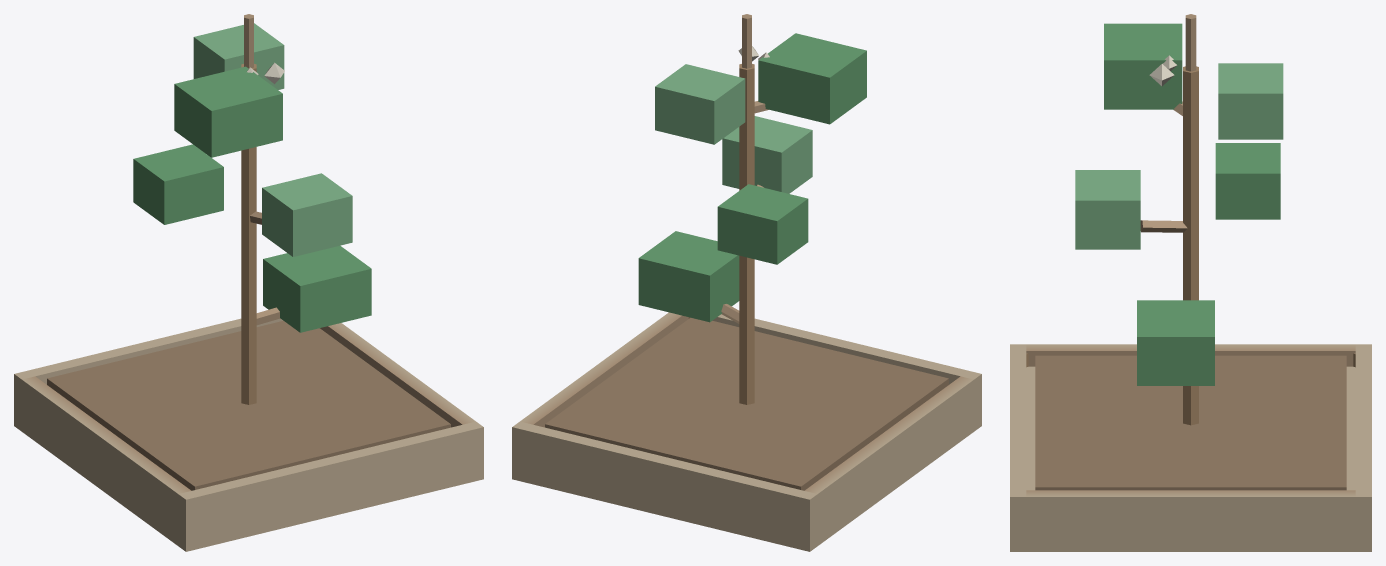
The model's file is cafe_floracion_far.glb.
The picture shows the model from 3 angles, left to right: view 1: azimuth 30°, elevation 25°; view 2: azimuth 150°, elevation 25°; view 3: azimuth 270°, elevation 25°; orthographic projection. The views are drawn at different scales.
Parts seen in each view (by area): view 1: model; view 2: model; view 3: model.
Part boxes in pixels (<box>): model: <box>14,14,483,551</box>; model: <box>512,14,981,551</box>; model: <box>1010,14,1371,551</box>.
Bounding box in the file's own units: 1 × 1.4 × 1.
